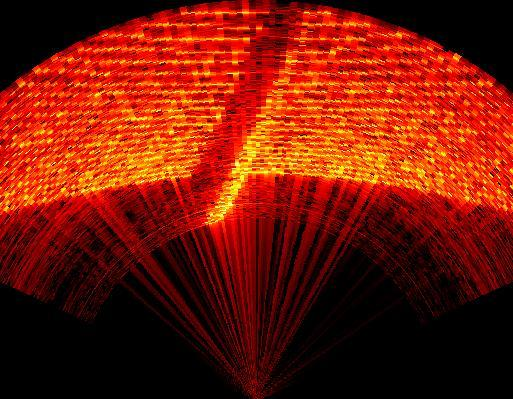pipe: (174, 2, 311, 218)
